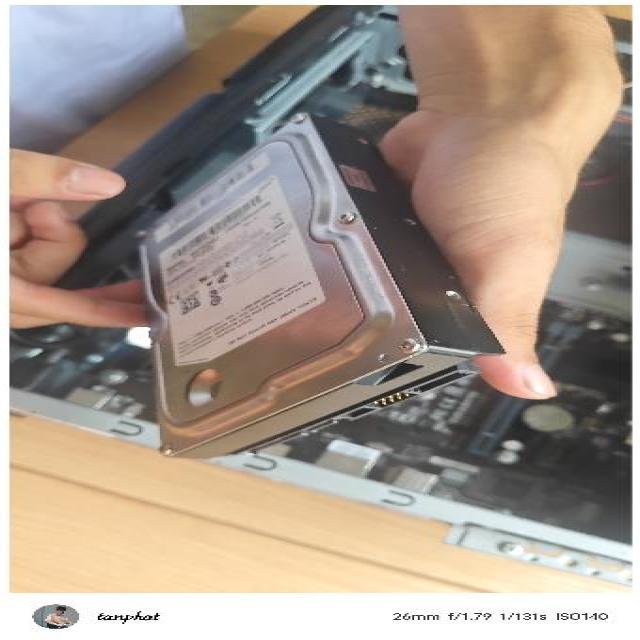DISK: (128, 110, 510, 460)
